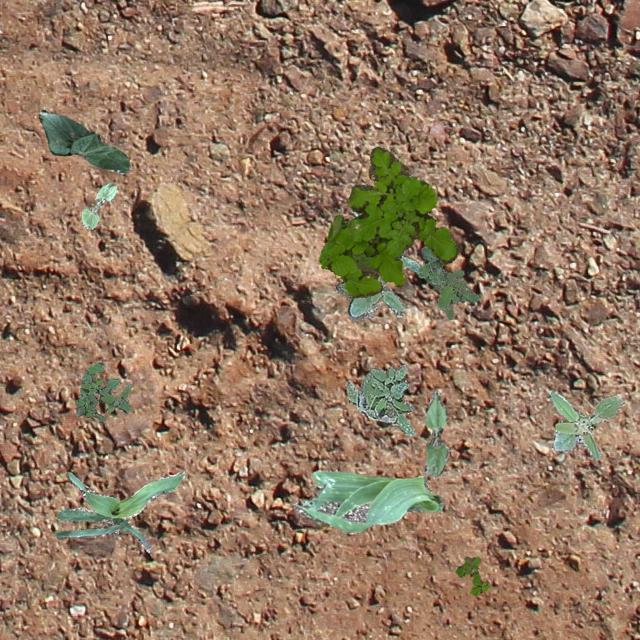crop: (53, 471, 185, 552), (292, 468, 442, 532), (38, 108, 130, 174), (422, 390, 448, 476), (80, 180, 116, 228)
weed: (318, 146, 458, 296), (332, 210, 420, 320), (546, 391, 622, 458), (344, 362, 414, 434), (418, 246, 478, 318), (74, 362, 130, 421), (454, 556, 488, 594)
